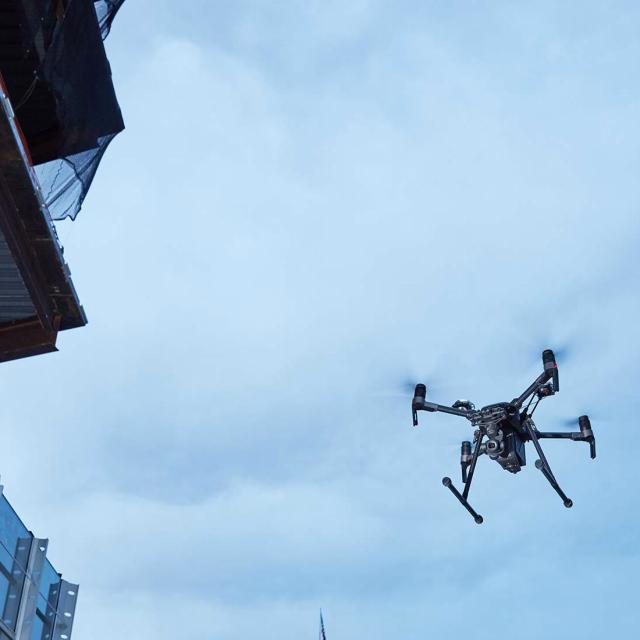drone: (379, 327, 614, 527)
